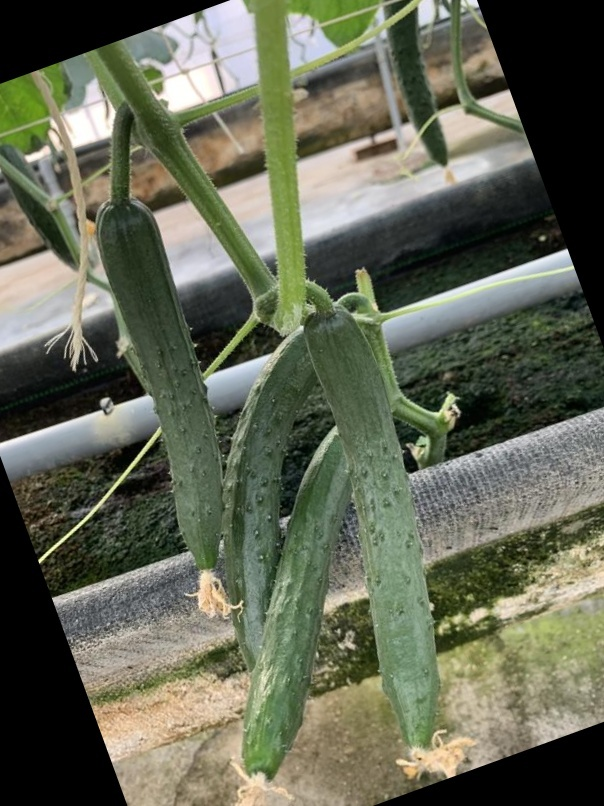mature: (300, 308, 446, 754), (94, 197, 226, 578), (219, 420, 352, 794), (223, 317, 318, 661)
